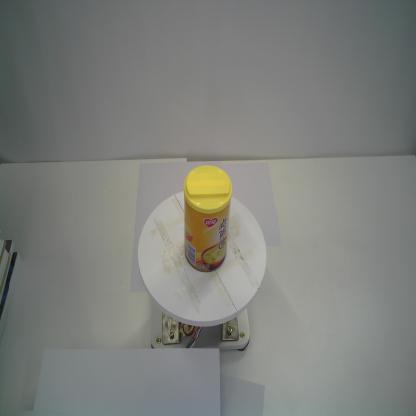Canned Food: (180, 163, 235, 273)
